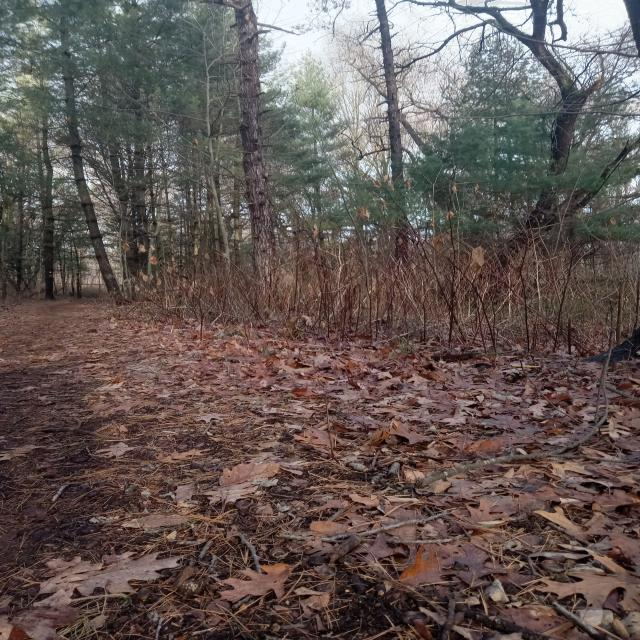knotweed-stems: (165, 247, 640, 355)
tree trunks: (54, 14, 125, 301), (229, 1, 281, 315)
